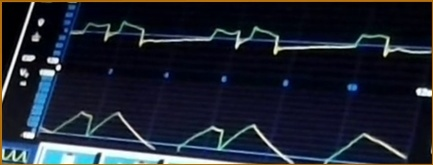Double_Triggering Flow: (74, 7, 419, 67)
Double_Triggering Volume: (43, 103, 406, 162)
